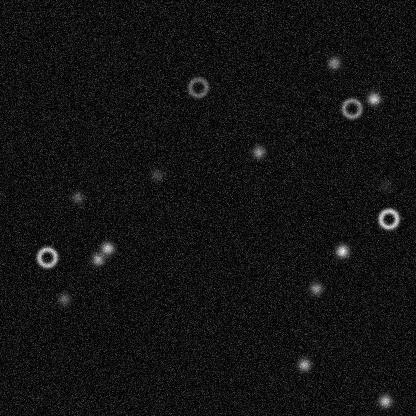Ring: (339, 96, 363, 120), (376, 206, 400, 230), (185, 75, 209, 99), (34, 245, 58, 269)
Spot: (365, 90, 381, 106), (69, 189, 85, 205), (56, 290, 72, 306), (296, 356, 312, 372), (377, 177, 393, 193), (99, 240, 115, 256), (307, 280, 323, 296), (89, 251, 105, 267), (250, 144, 266, 160), (376, 392, 392, 408), (334, 243, 350, 259), (325, 54, 341, 70), (149, 166, 165, 182)
